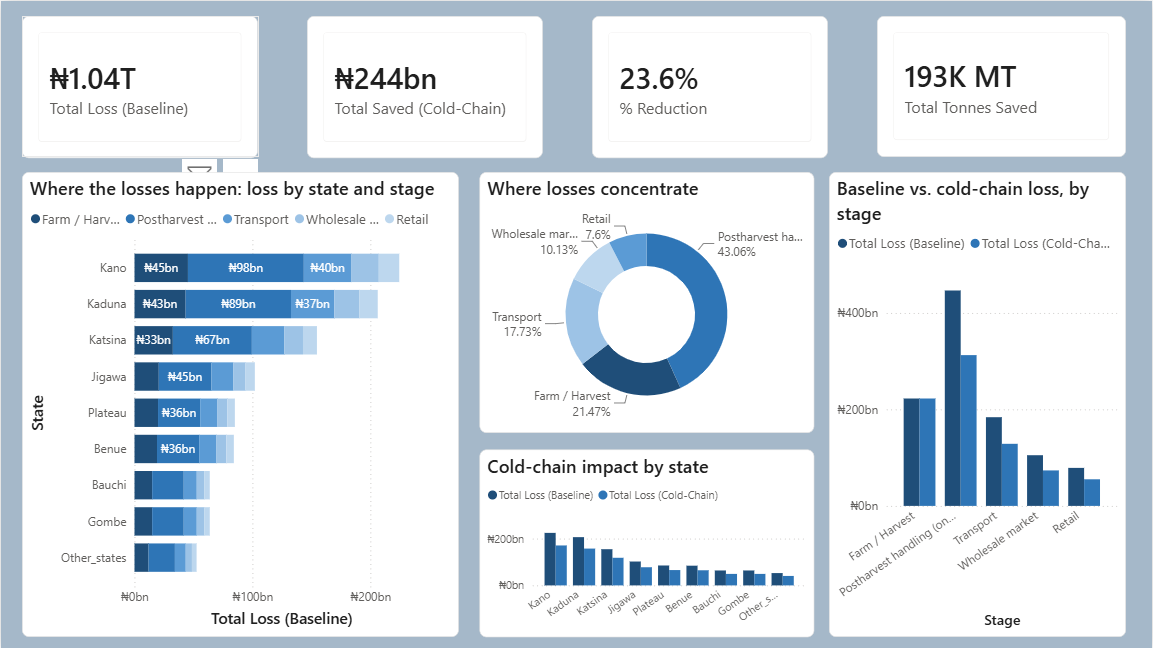

This screenshot's page, from the dashboard's own definition file:
{"tool":"powerbi","page":{"name":"Page 1","canvas":[1280,720],"ordinal":0},"visuals":[{"type":"cardVisual","fields":{"Data":["tomato_loss_model_output.% Reduction"]},"box":[657.3,16,262,158],"z":0},{"type":"cardVisual","fields":{"Data":["tomato_loss_model_output.Total Loss (Baseline)"]},"box":[24,16,262,158],"z":1000},{"type":"cardVisual","fields":{"Data":["tomato_loss_model_output.Total Saved (Cold-Chain)"]},"box":[340.7,16,262,158],"z":2000},{"type":"barChart","title":"Where the losses happen: loss by state and stage","fields":{"Category":["tomato_loss_model_output.state"],"Series":["stage_loss_benchmarks.stage"],"Y":["tomato_loss_model_output.Total Loss (Baseline)"]},"box":[23.3,190,485,516.7],"z":3000},{"type":"clusteredColumnChart","title":"Baseline vs. cold-chain loss, by stage","fields":{"Category":["stage_loss_benchmarks.stage"],"Y":["tomato_loss_model_output.Total Loss (Baseline)","tomato_loss_model_output.Total Loss (Cold-Chain)"]},"box":[920,190,330,516.7],"z":4000},{"type":"clusteredColumnChart","title":"Cold-chain impact by state","fields":{"Category":["tomato_loss_model_output.state"],"Y":["tomato_loss_model_output.Total Loss (Baseline)","tomato_loss_model_output.Total Loss (Cold-Chain)"]},"box":[531.7,498.3,371.7,208.3],"z":5000},{"type":"cardVisual","fields":{"Data":["tomato_loss_model_output.Total Tonnes Saved"]},"box":[974,16,262,158],"z":6000},{"type":"donutChart","title":"Where losses concentrate","fields":{"Category":["tomato_loss_model_output.stage"],"Y":["tomato_loss_model_output.Total Loss (Baseline)"]},"box":[531.7,190,371.7,290],"z":7000}]}

Visuals, with their boxes in screenshot pixels (x1, y1, x2, y2), scaled from the page's 1280x720 canvas onto the 1153x648 screenshot:
cardVisual - tomato_loss_model_output.% Reduction: bbox(592, 14, 828, 157)
cardVisual - tomato_loss_model_output.Total Loss (Baseline): bbox(22, 14, 258, 157)
cardVisual - tomato_loss_model_output.Total Saved (Cold-Chain): bbox(307, 14, 543, 157)
"Where the losses happen: loss by state and stage" barChart: bbox(21, 171, 458, 636)
"Baseline vs. cold-chain loss, by stage" clusteredColumnChart: bbox(829, 171, 1126, 636)
"Cold-chain impact by state" clusteredColumnChart: bbox(479, 448, 814, 636)
cardVisual - tomato_loss_model_output.Total Tonnes Saved: bbox(877, 14, 1113, 157)
"Where losses concentrate" donutChart: bbox(479, 171, 814, 432)
